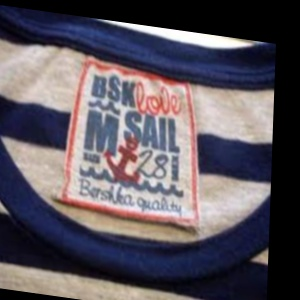bershka: (85, 109, 193, 281), (84, 48, 198, 114)
